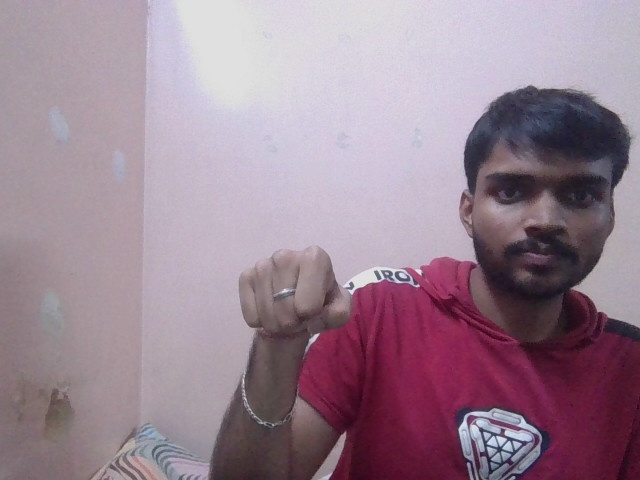Yes: (222, 242, 361, 335)
